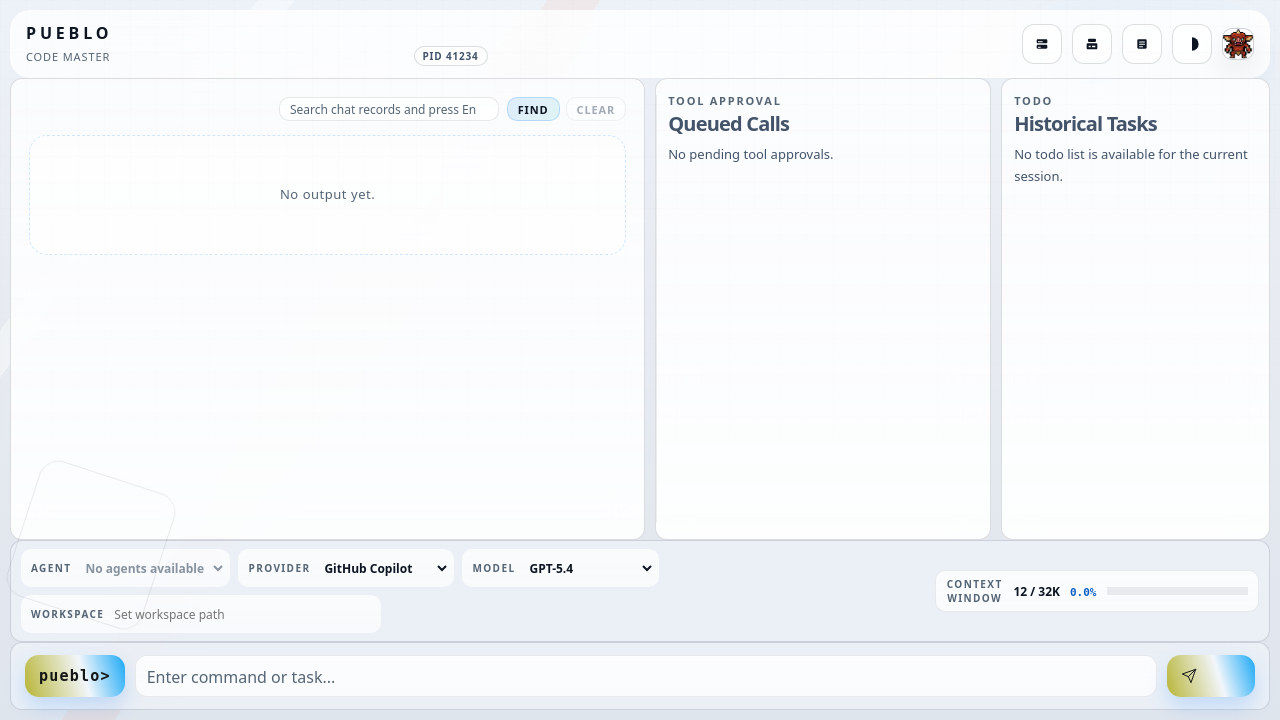
Test: Desktop Renderer › toggles the tool approval and todo sidebars independently
Expected: the element named "workspace-tool-approval-sidebar" is shown, left=655, top=78, right=991, bottom=540
Expected: the element named "workspace-todo-sidebar" is shown, left=1001, top=78, right=1270, bottom=540
Step 1. Click the button named "Hide tool approval sidebar" → point(1092, 44), box left=1072, top=24, right=1112, bottom=64
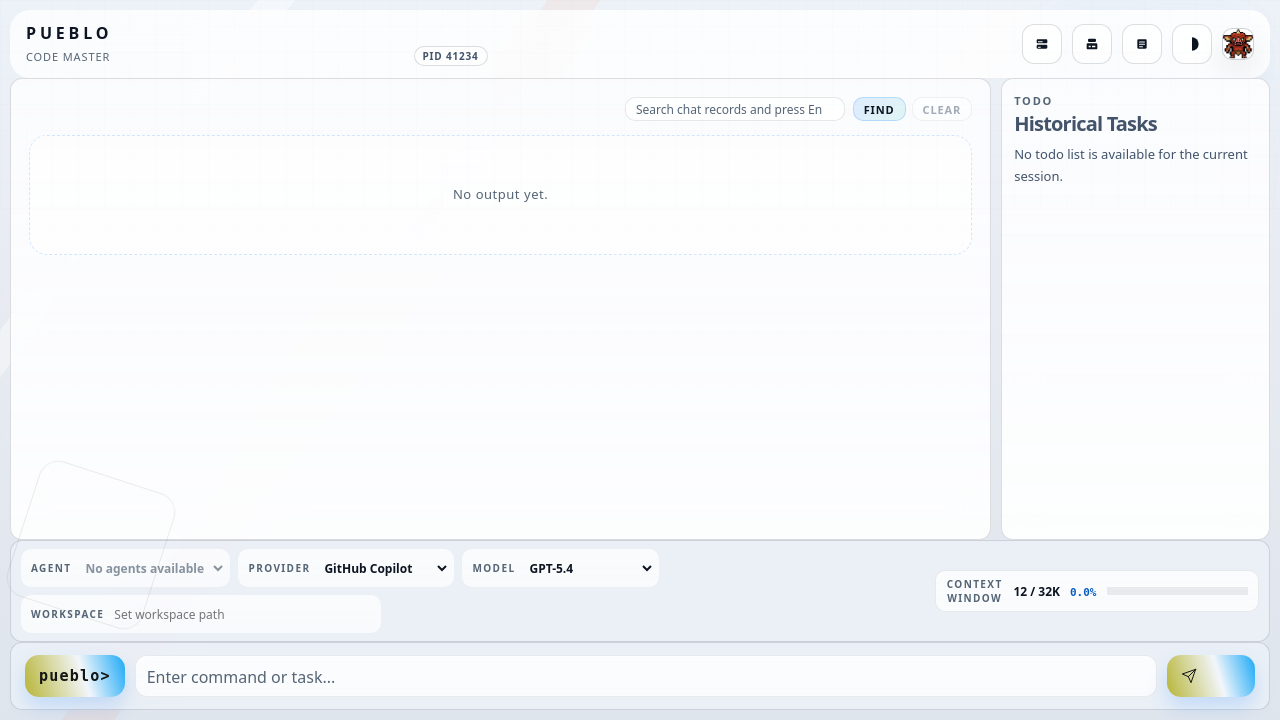
Expected: the element named "workspace-todo-sidebar" is shown, left=1001, top=78, right=1270, bottom=540
Expected: the field labelled "workspace-tool-approval-sidebar" is gone
Step 2. Click the button named "Hide todo sidebar" → point(1142, 44), box left=1122, top=24, right=1162, bottom=64
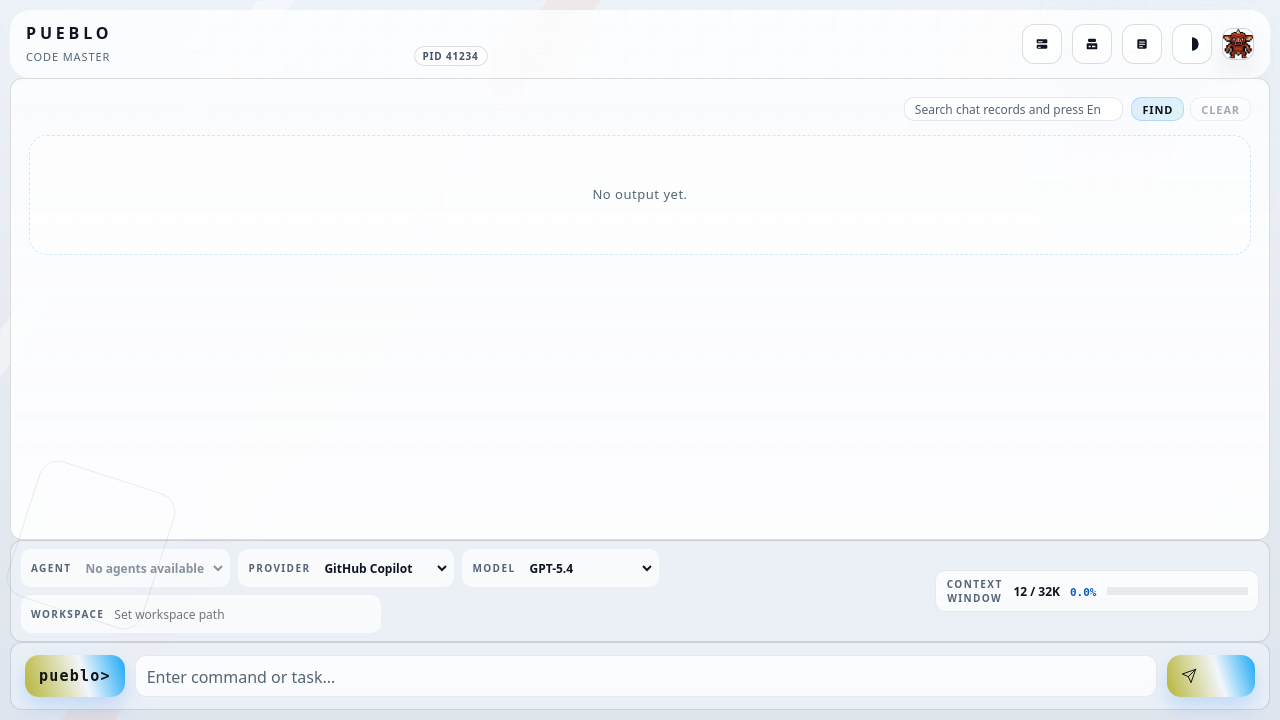
Expected: the button named "Show tool approval sidebar" is shown, left=1072, top=24, right=1112, bottom=64
Expected: the field labelled "workspace-todo-sidebar" is gone
